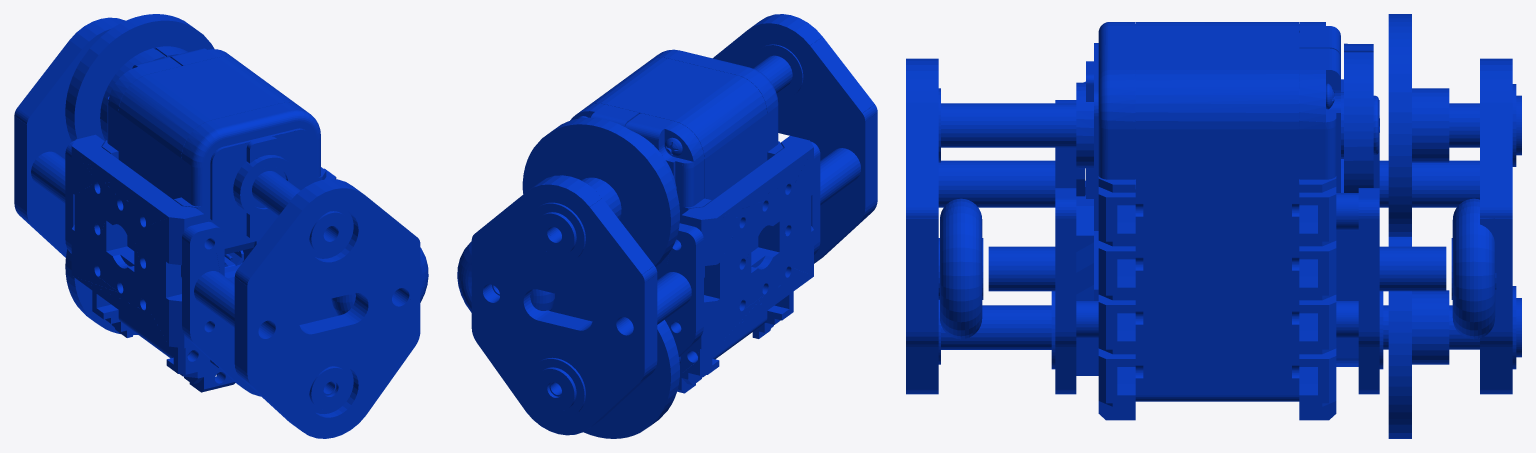
The model's file is brazo6.dae.
The picture shows the model from 3 angles, left to right: view 1: azimuth 30°, elevation 25°; view 2: azimuth 150°, elevation 25°; view 3: azimuth 270°, elevation 25°; orthographic projection. The views are drawn at different scales.
Visible parts, largest first — view 1: pinzaBody; view 2: pinzaBody; view 3: pinzaBody.
Part boxes in pixels (left/top/right/bottom): pinzaBody: left=14, top=14, right=428, bottom=438; pinzaBody: left=457, top=14, right=877, bottom=438; pinzaBody: left=906, top=14, right=1521, bottom=438.
Bounding box in the file's own units: 0.042 × 0.0829 × 0.06.
